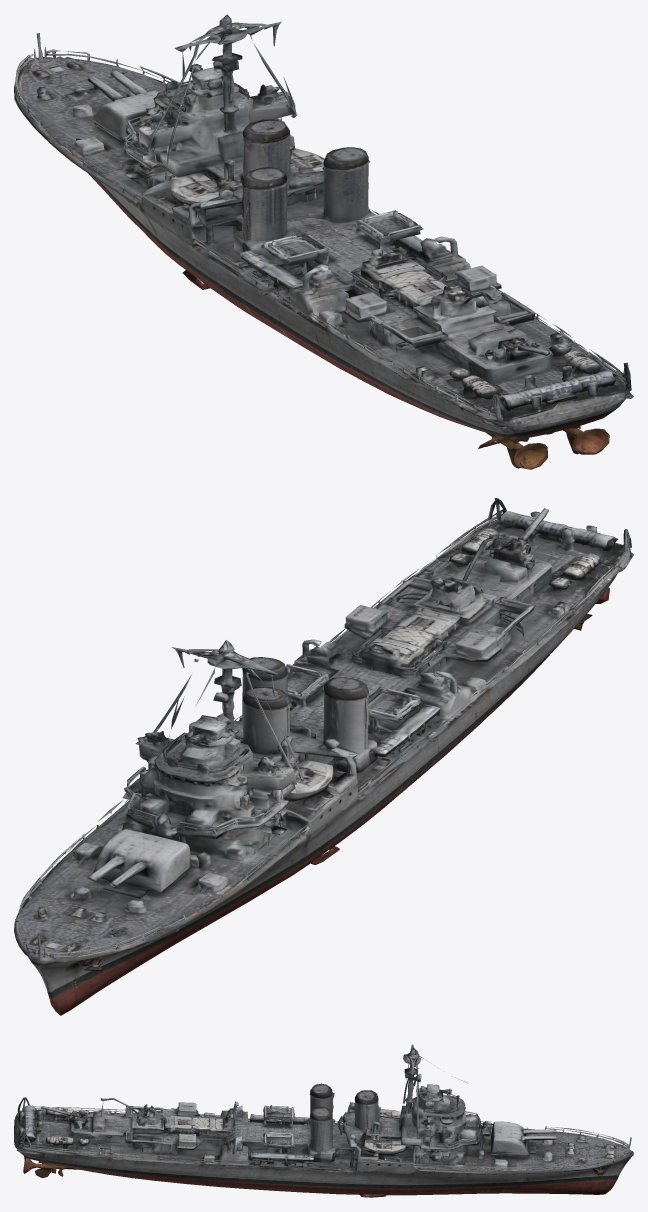
The model's file is destroyer.hammann.glb.
3 views of the same model, one above another, from view 1: azimuth 30°, elevation 25°; view 2: azimuth 150°, elevation 25°; view 3: azimuth 270°, elevation 25° (orthographic). The views are drawn at different scales.
Visible parts, largest first — view 1: tripo_node_e5ed5473-21f7-4bf5-a201-3a77497c05c9; view 2: tripo_node_e5ed5473-21f7-4bf5-a201-3a77497c05c9; view 3: tripo_node_e5ed5473-21f7-4bf5-a201-3a77497c05c9.
Boxes of the visible parts, <box> form: tripo_node_e5ed5473-21f7-4bf5-a201-3a77497c05c9: <box>14,14,633,469</box>; tripo_node_e5ed5473-21f7-4bf5-a201-3a77497c05c9: <box>14,498,633,1015</box>; tripo_node_e5ed5473-21f7-4bf5-a201-3a77497c05c9: <box>14,1044,633,1197</box>.
Size of the model in its own units: 20.14 by 28 by 106.
Materials: 1 (1 with a texture image).
